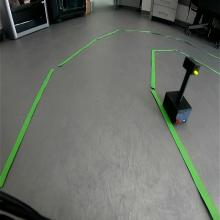green: (182, 56, 202, 76)
